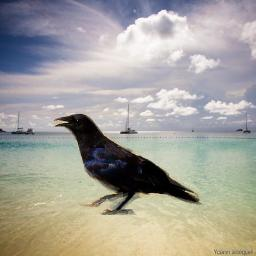Crow: (54, 113, 202, 215)
